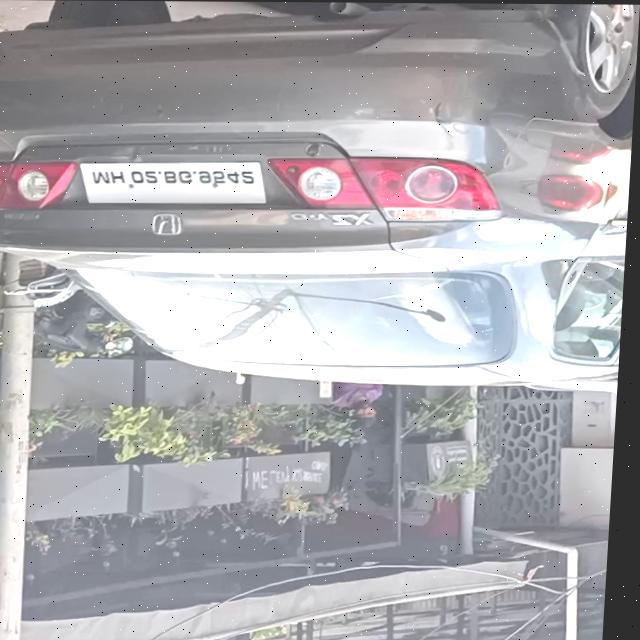plate: (83, 158, 269, 206)
